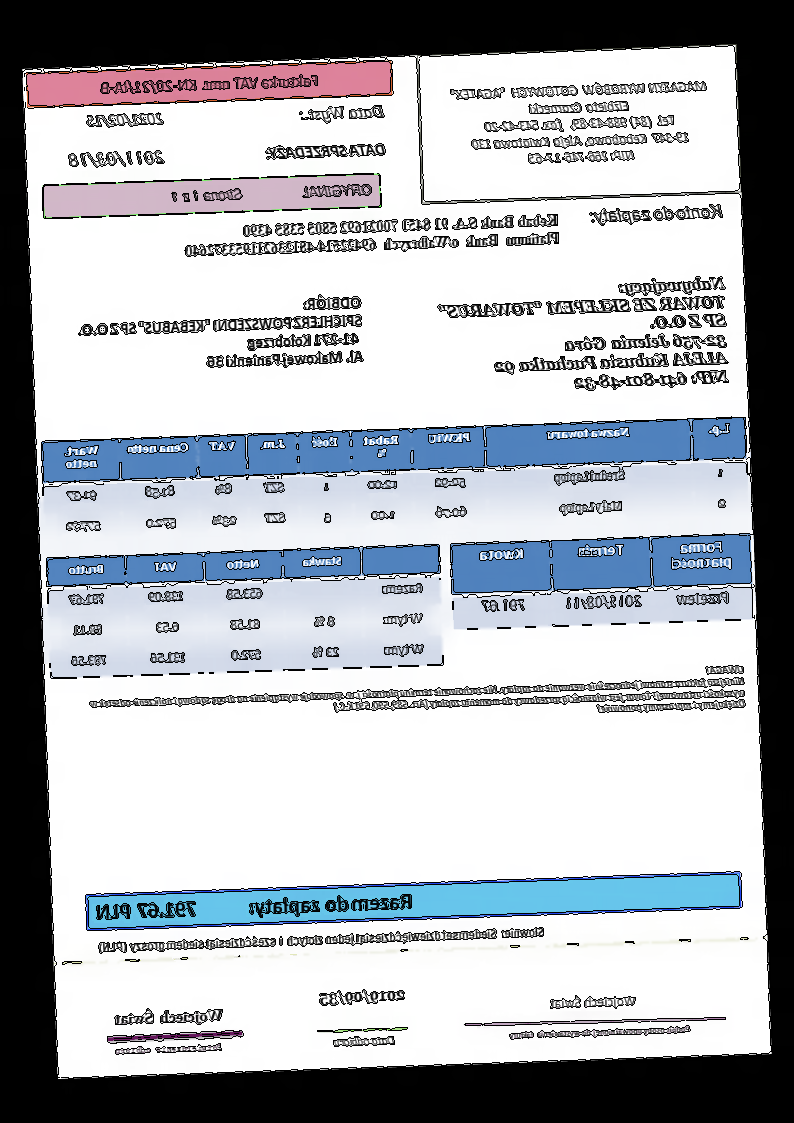Table: (41, 413, 751, 546), (45, 544, 447, 681), (449, 532, 755, 633)
TextBox: (87, 661, 748, 733), (437, 274, 731, 399), (71, 292, 367, 375), (445, 78, 713, 169), (183, 209, 563, 262), (96, 921, 550, 956), (94, 887, 418, 925), (96, 70, 324, 97), (165, 179, 374, 206), (587, 200, 728, 226), (505, 1023, 694, 1042), (265, 138, 389, 165), (110, 1004, 230, 1029), (66, 145, 167, 170), (316, 985, 410, 1008), (85, 105, 165, 132), (295, 101, 388, 124), (548, 989, 641, 1012), (113, 1040, 226, 1057), (331, 1030, 398, 1050)
